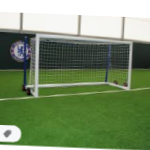goals: (26, 32, 135, 98)
